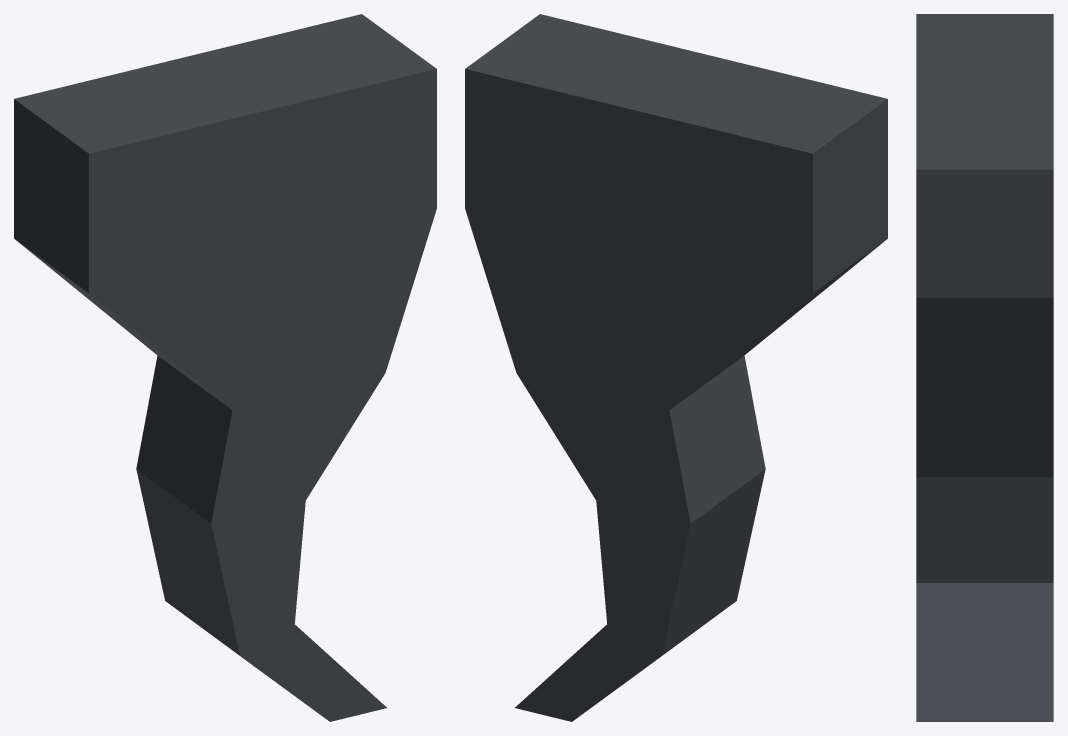
The model's file is Pistol5_02_3.fbx.
3 views of the same model, side by side, from view 1: azimuth 30°, elevation 25°; view 2: azimuth 150°, elevation 25°; view 3: azimuth 270°, elevation 25° (orthographic). The views are drawn at different scales.
Visible parts, largest first — view 1: Pistol5_02_3; view 2: Pistol5_02_3; view 3: Pistol5_02_3.
Boxes of the visible parts, bbox=[...] form: Pistol5_02_3: bbox=[14, 14, 436, 721]; Pistol5_02_3: bbox=[465, 14, 887, 721]; Pistol5_02_3: bbox=[916, 14, 1053, 721].
Size of the model in its own units: 0.0226 by 0.0389 by 0.00844.
